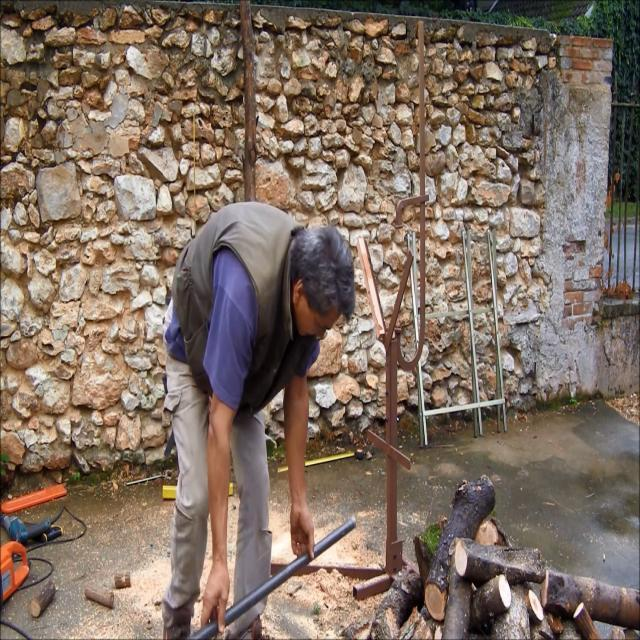Chainsaw: (0, 506, 63, 640)
